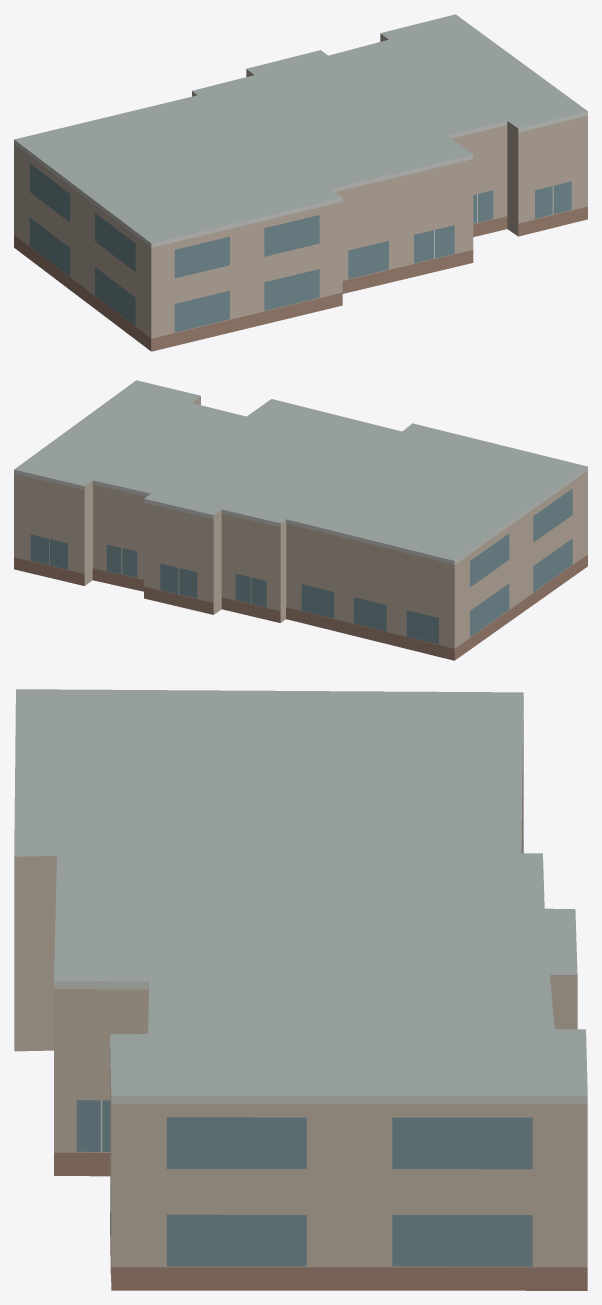
File: survey-upis-32953606.glb
3 renders of one model, top to bottom at view 1: azimuth 30°, elevation 25°; view 2: azimuth 150°, elevation 25°; view 3: azimuth 270°, elevation 25°, orthographic. The views are drawn at different scales.
Parts seen in each view (by area): view 1: survey-upis-32953606.tmp; view 2: survey-upis-32953606.tmp; view 3: survey-upis-32953606.tmp.
Part boxes in pixels (x1,y1,x2,y2): survey-upis-32953606.tmp: (14,14,587,351); survey-upis-32953606.tmp: (14,380,587,660); survey-upis-32953606.tmp: (14,689,587,1290).
Bounding box in the file's own units: 27.35 × 6.1 × 16.3.
